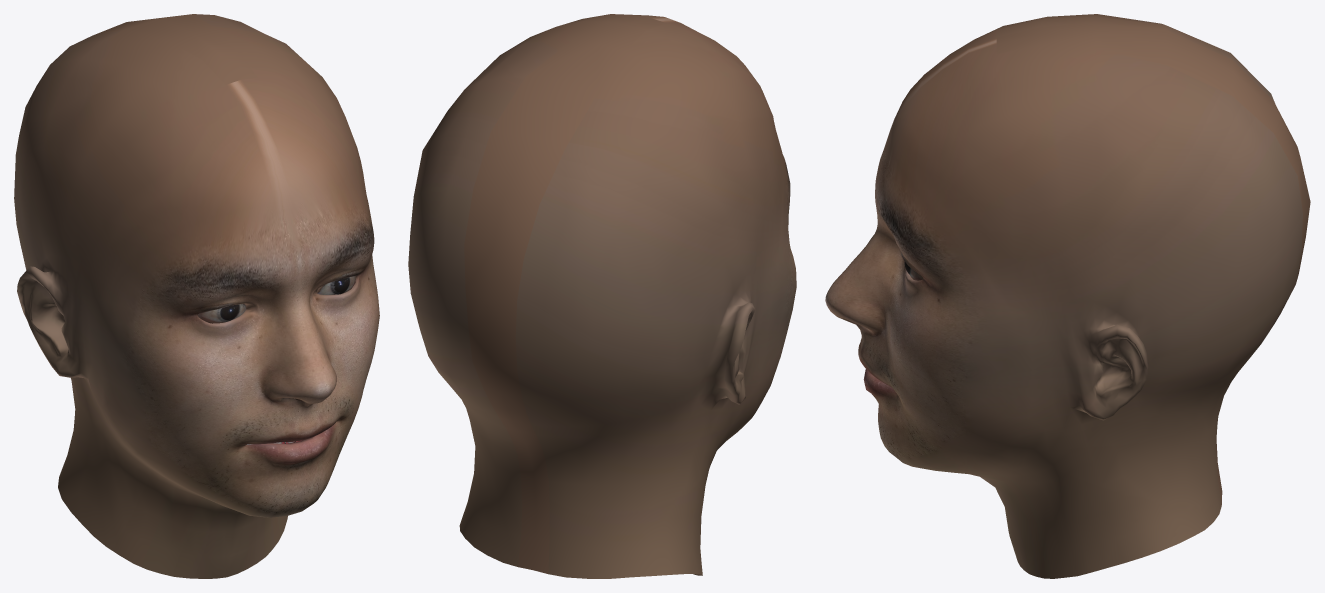
Rendered from bcc.obj.
The picture shows the model from 3 angles, left to right: view 1: azimuth 30°, elevation 25°; view 2: azimuth 150°, elevation 25°; view 3: azimuth 270°, elevation 25°; orthographic projection. The views are drawn at different scales.
Size of the model in its own units: 170 by 267 by 223.
Materials: 2 (1 with a texture image).
